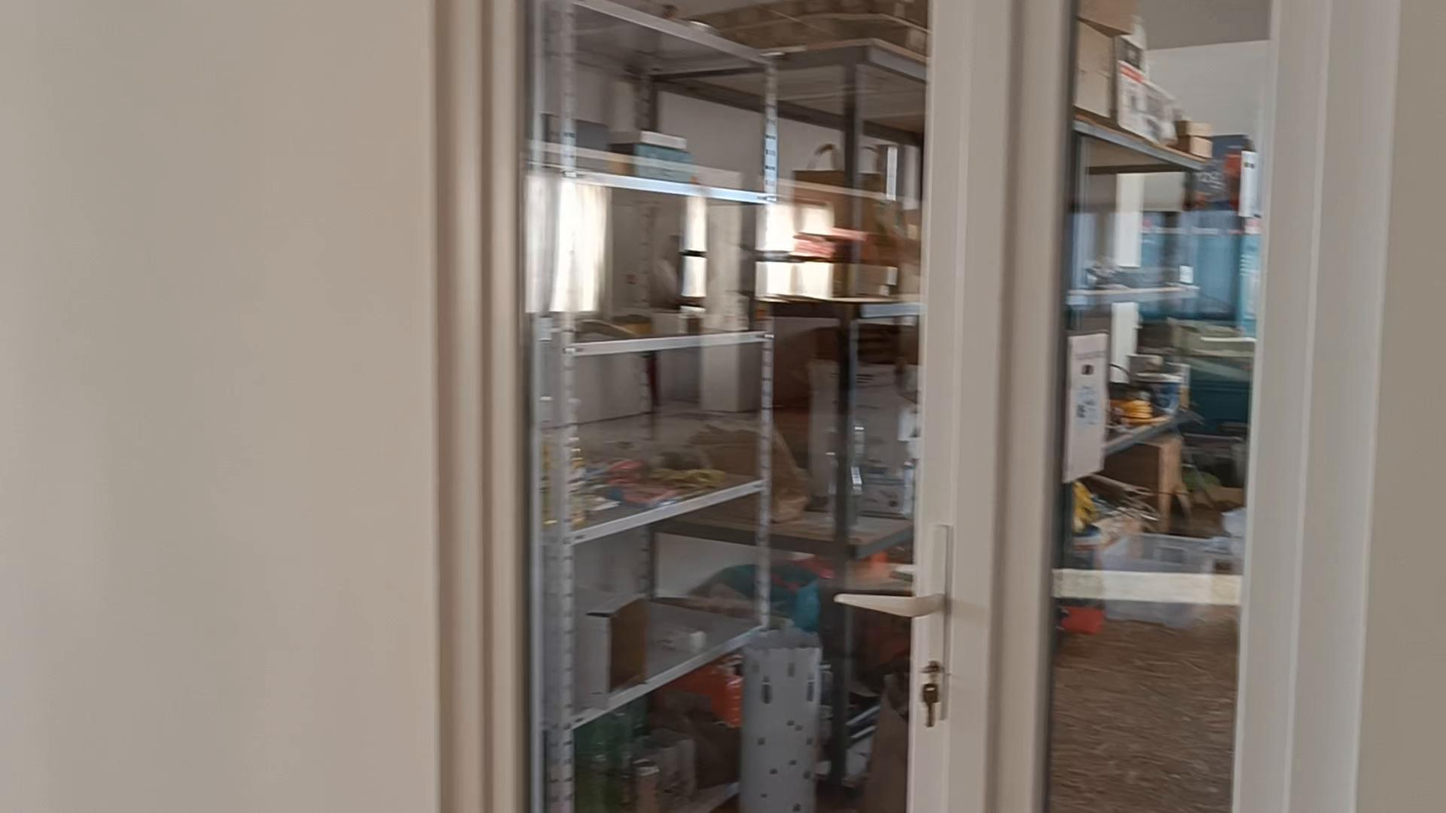floor: (1048, 620, 1237, 812)
wall: (10, 0, 420, 812)
